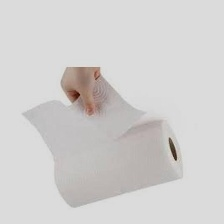tissue: (16, 69, 188, 213)
